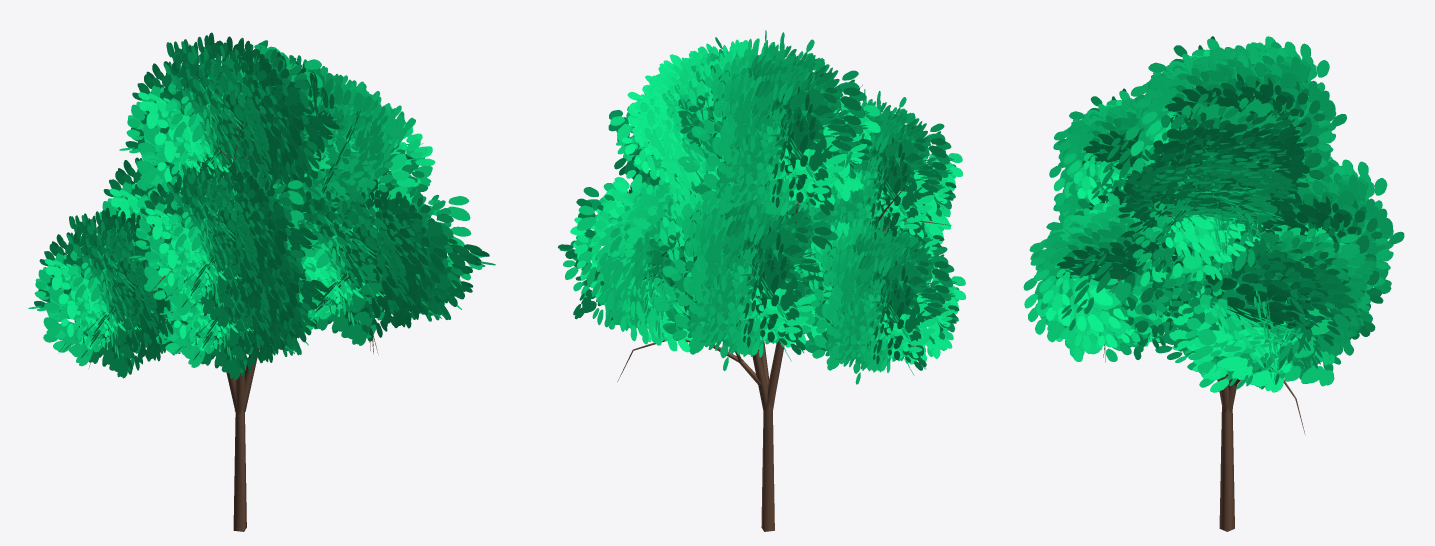
Rendered from TestTree4.fbx.
3 renders of one model, left to right at view 1: azimuth 30°, elevation 25°; view 2: azimuth 150°, elevation 25°; view 3: azimuth 270°, elevation 25°, orthographic.
Visible parts, largest first — view 1: Plane.003, tree; view 2: Plane.003, tree; view 3: Plane.003, tree.
Boxes of the visible parts, <box> form: Plane.003: <box>28,32,495,379</box>; tree: <box>58,101,378,531</box>; Plane.003: <box>558,30,966,384</box>; tree: <box>617,57,951,531</box>; Plane.003: <box>1023,36,1404,392</box>; tree: <box>1088,99,1305,531</box>.
Bounding box in the file's own units: 5660 × 6971 × 5259.
